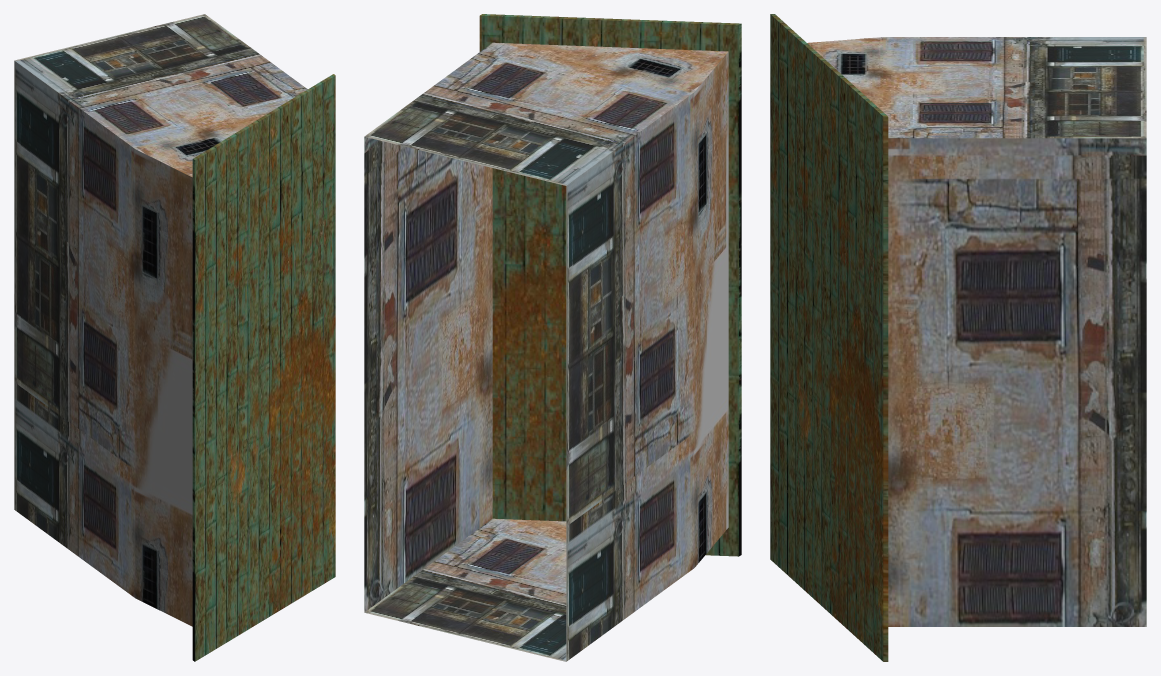
File: houseduchamp06_wtf.obj
The picture shows the model from 3 angles, left to right: view 1: azimuth 30°, elevation 25°; view 2: azimuth 150°, elevation 25°; view 3: azimuth 270°, elevation 25°; orthographic projection. The views are drawn at different scales.
Visible parts, largest first — view 1: group2; view 2: group2; view 3: group2.
Part boxes in pixels (box(x1,y1,x2,y2)): group2: box(14, 14, 335, 661); group2: box(364, 14, 741, 661); group2: box(770, 14, 1146, 661).
Bounding box in the file's own units: 276 × 660 × 413.
